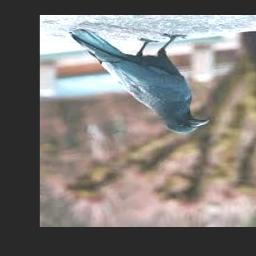Crow: (67, 29, 209, 134)
